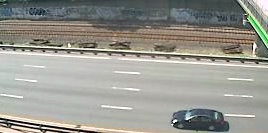car: (169, 107, 228, 133)
